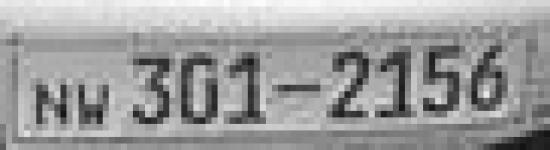-: (275, 77, 322, 102)
0: (180, 48, 222, 128)
1: (222, 51, 271, 130), (375, 42, 420, 122)
2: (324, 43, 374, 125)
3: (126, 49, 178, 131)
5: (420, 40, 466, 122)
6: (466, 35, 516, 116)
N: (29, 76, 73, 131)
W: (74, 76, 117, 132)
